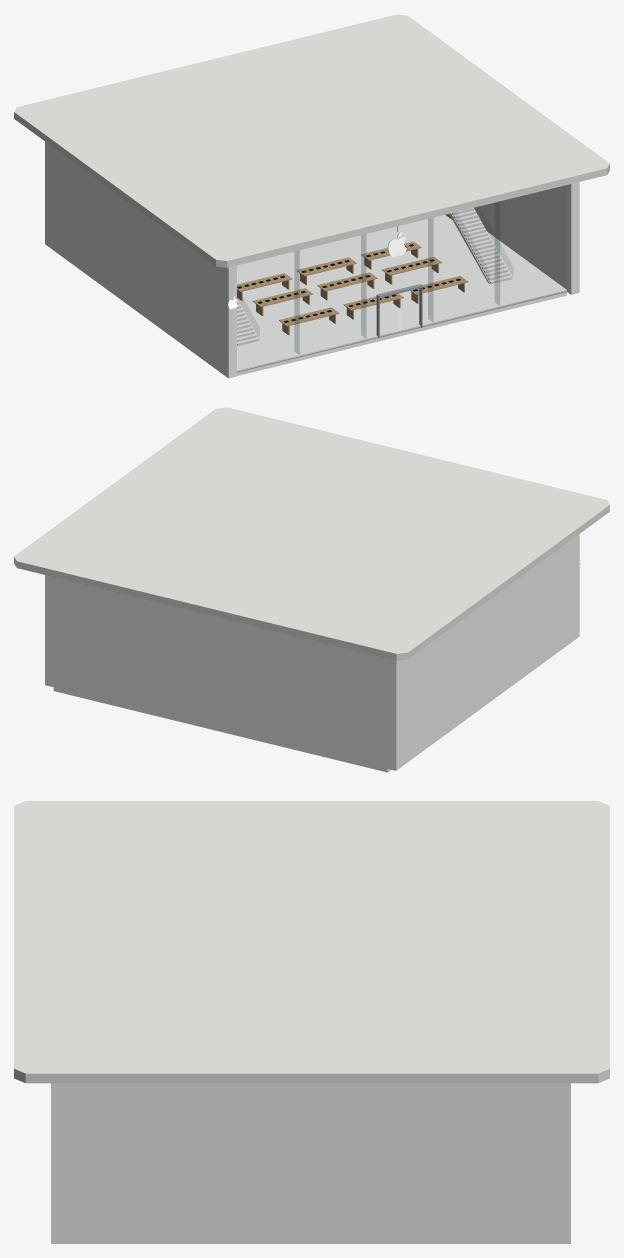
Rendered from apple_flagship_lod1.glb.
3 renders of one model, top to bottom at view 1: azimuth 30°, elevation 25°; view 2: azimuth 150°, elevation 25°; view 3: azimuth 270°, elevation 25°, orthographic. The views are drawn at different scales.
Parts seen in each view (by area): view 1: P06_LOD1_FACADE_DETAILS_RoofPlate, P06_LOD1_BUILDING_EXTERIOR_Stone, P06_LOD1_BUILDING_INTERIOR_GroundSlab, P06_LOD1_DISPLAY_OBJECTS_Products, P06_LOD1_GLASS_SYSTEM_Fins, P06_LOD1_BUILDING_INTERIOR_Stair10, P06_LOD1_BUILDING_INTERIOR_Stair-10, P06_LOD1_GLASS_SYSTEM_DoorFrame; view 2: P06_LOD1_FACADE_DETAILS_RoofPlate, P06_LOD1_BUILDING_EXTERIOR_Stone, P06_LOD1_BUILDING_INTERIOR_GroundSlab; view 3: P06_LOD1_FACADE_DETAILS_RoofPlate, P06_LOD1_BUILDING_EXTERIOR_Stone.
Boxes of the visible parts, left/top/right/bottom form: P06_LOD1_FACADE_DETAILS_RoofPlate: left=14, top=14, right=609, bottom=267; P06_LOD1_BUILDING_EXTERIOR_Stone: left=45, top=141, right=579, bottom=378; P06_LOD1_BUILDING_INTERIOR_GroundSlab: left=237, top=215, right=566, bottom=375; P06_LOD1_DISPLAY_OBJECTS_Products: left=237, top=214, right=468, bottom=335; P06_LOD1_GLASS_SYSTEM_Fins: left=237, top=202, right=567, bottom=372; P06_LOD1_BUILDING_INTERIOR_Stair10: left=449, top=207, right=512, bottom=284; P06_LOD1_BUILDING_INTERIOR_Stair-10: left=237, top=300, right=259, bottom=346; P06_LOD1_GLASS_SYSTEM_DoorFrame: left=376, top=284, right=422, bottom=338; P06_LOD1_FACADE_DETAILS_RoofPlate: left=14, top=407, right=609, bottom=660; P06_LOD1_BUILDING_EXTERIOR_Stone: left=45, top=534, right=579, bottom=770; P06_LOD1_BUILDING_INTERIOR_GroundSlab: left=53, top=686, right=391, bottom=772; P06_LOD1_FACADE_DETAILS_RoofPlate: left=14, top=801, right=609, bottom=1083; P06_LOD1_BUILDING_EXTERIOR_Stone: left=51, top=1083, right=570, bottom=1243.
Bounding box in the file's own units: 33 × 10.75 × 30.5.
